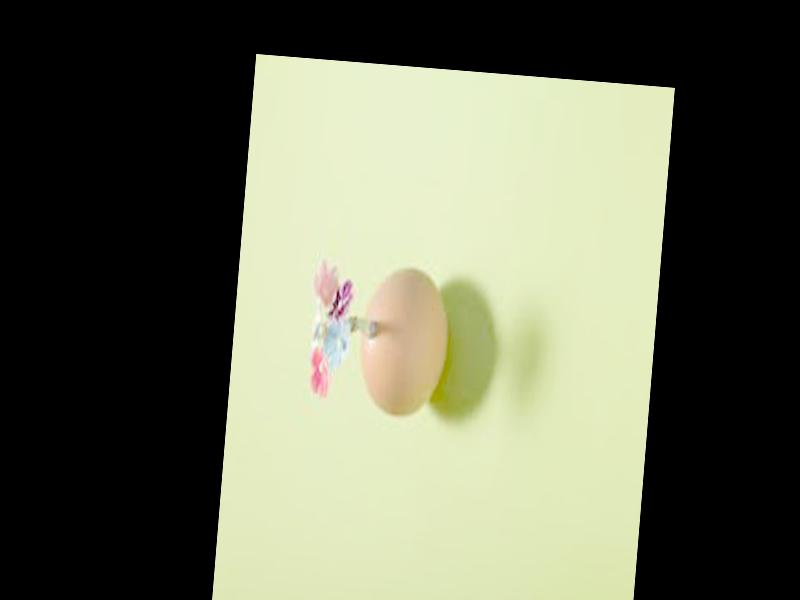Eggs: (356, 265, 453, 418)
